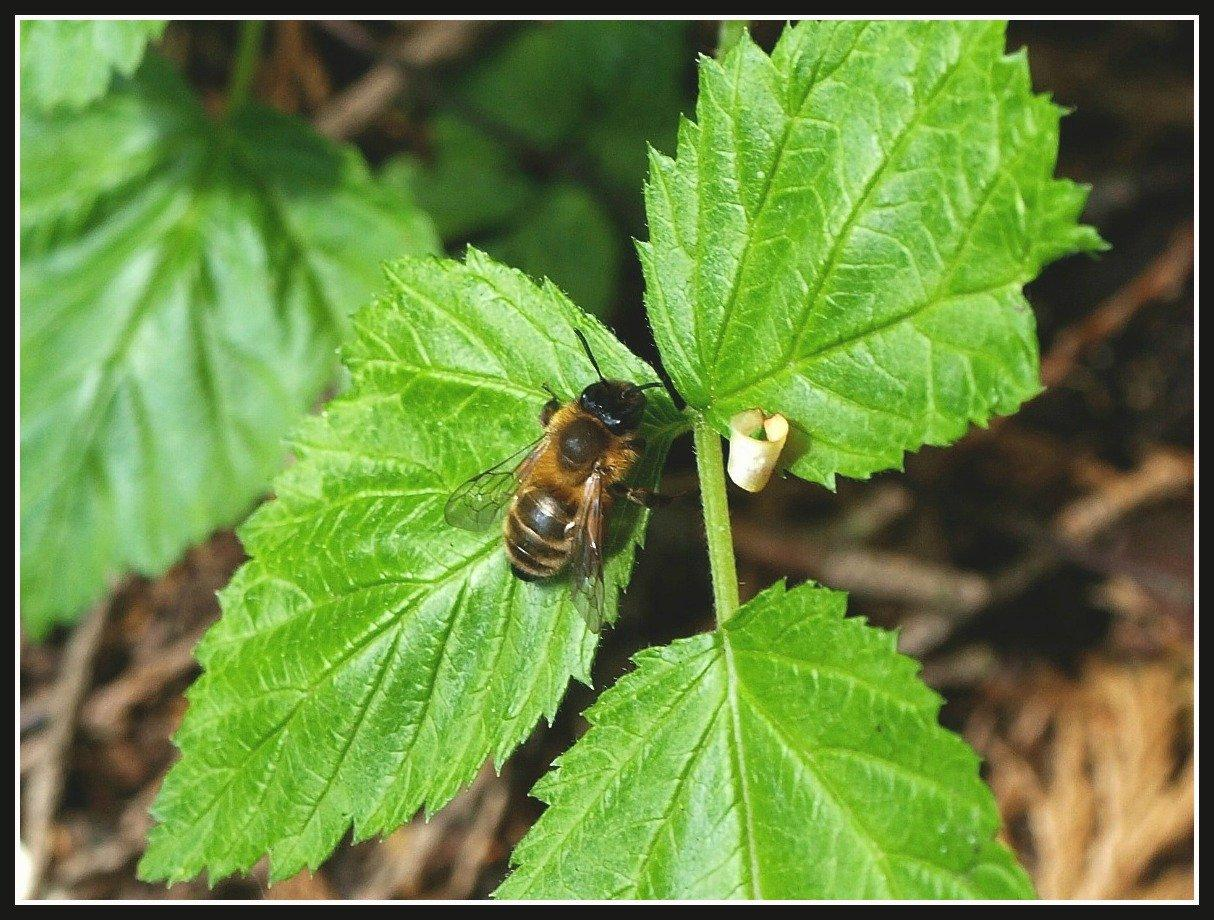Raspberry leaf: (131, 214, 684, 878), (642, 1, 1125, 478), (479, 564, 1019, 920)
